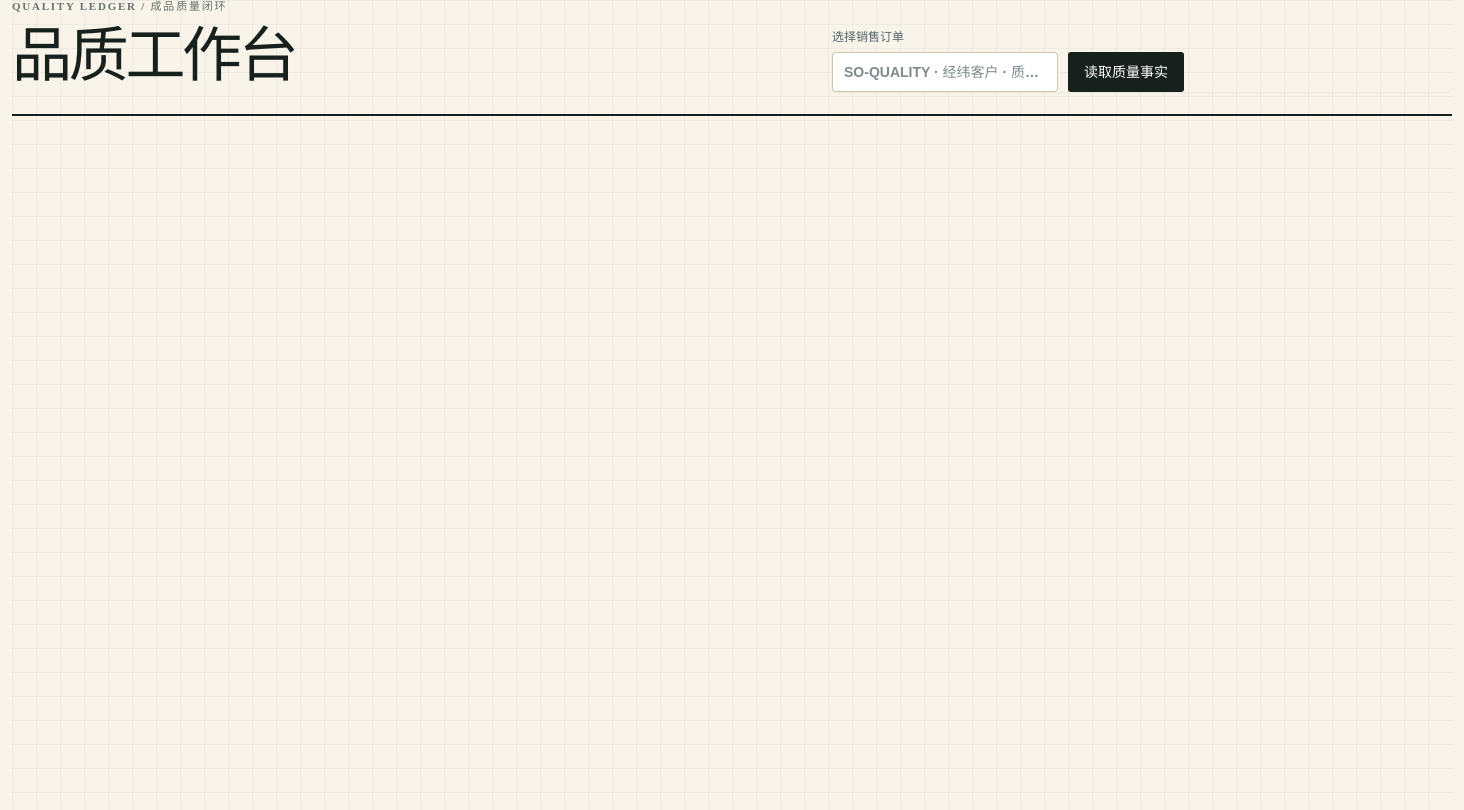
Test: 质量工作台 › shows pending disposition and loads bounded history pages with the selected work order
The image size is (1464, 810).
Submit the form with test id "load-quality", box [832,28,1452,92]
(page scrolled)
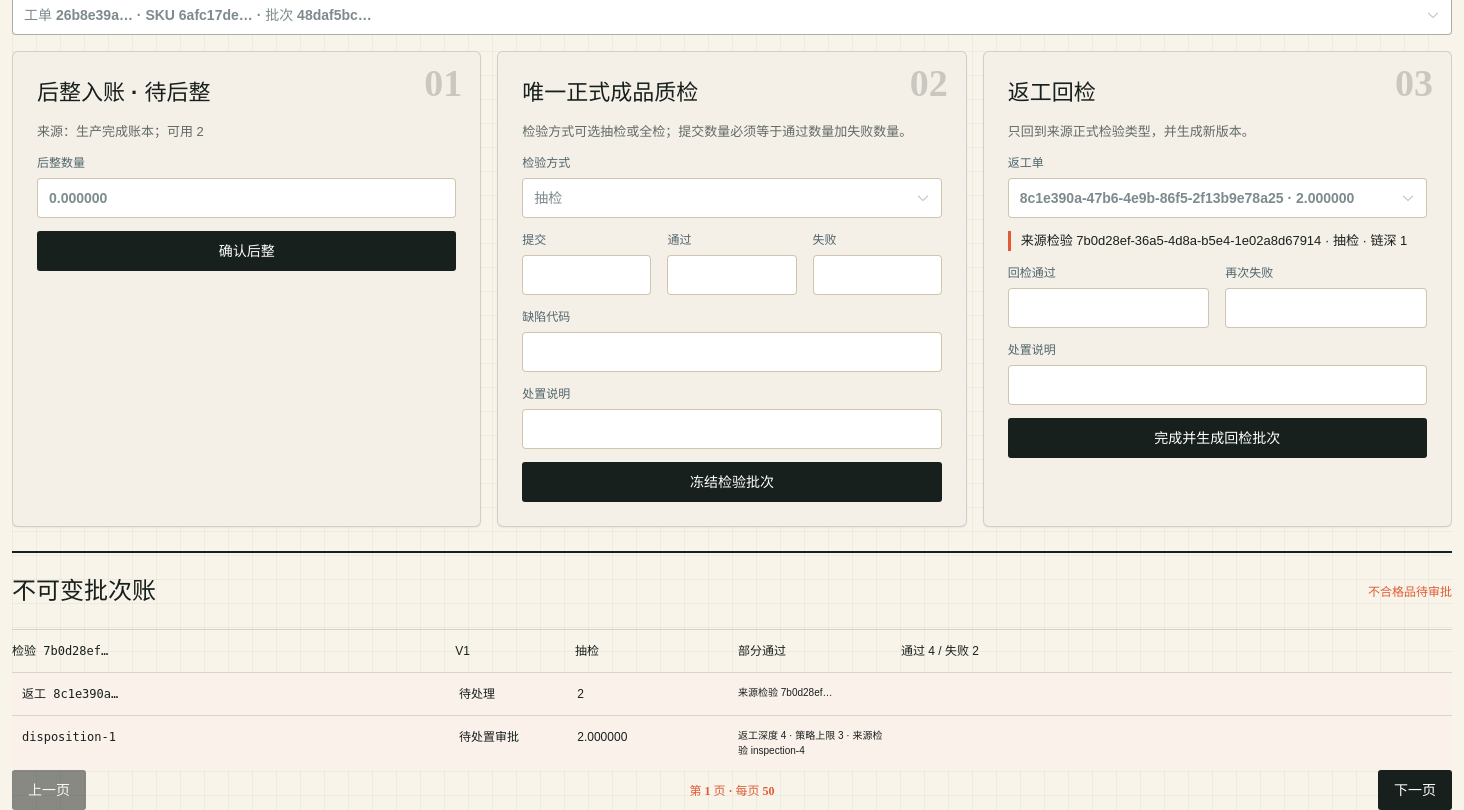
Expected: the element with test id "pending-disposition" shows "待处置审批", [459,730,519,744]
Click the button "下一页": (1415, 790) [1378,770,1452,809]
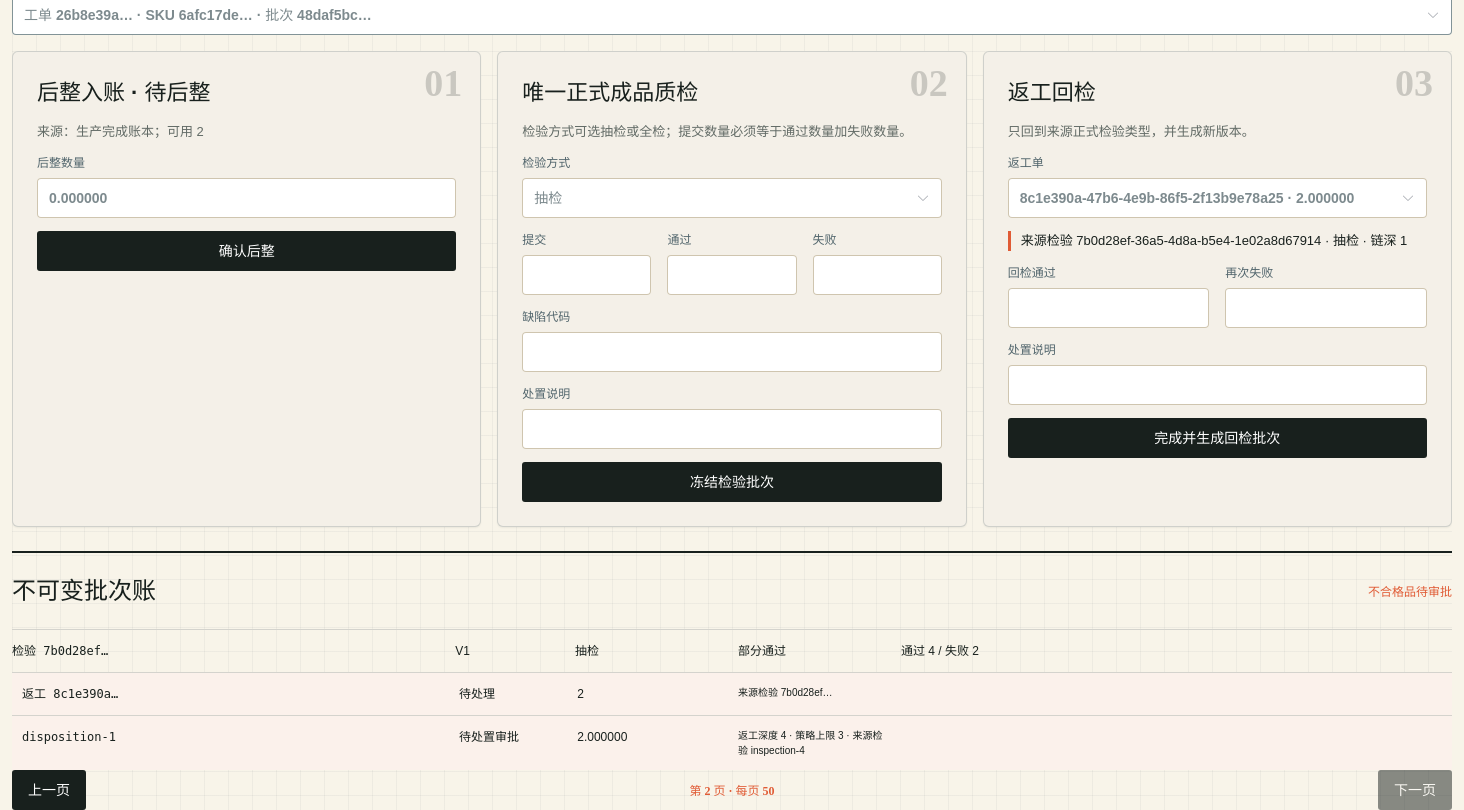
Expected: the element with test id "quality-history-page" shows "第 2 页", [690,784,774,798]
